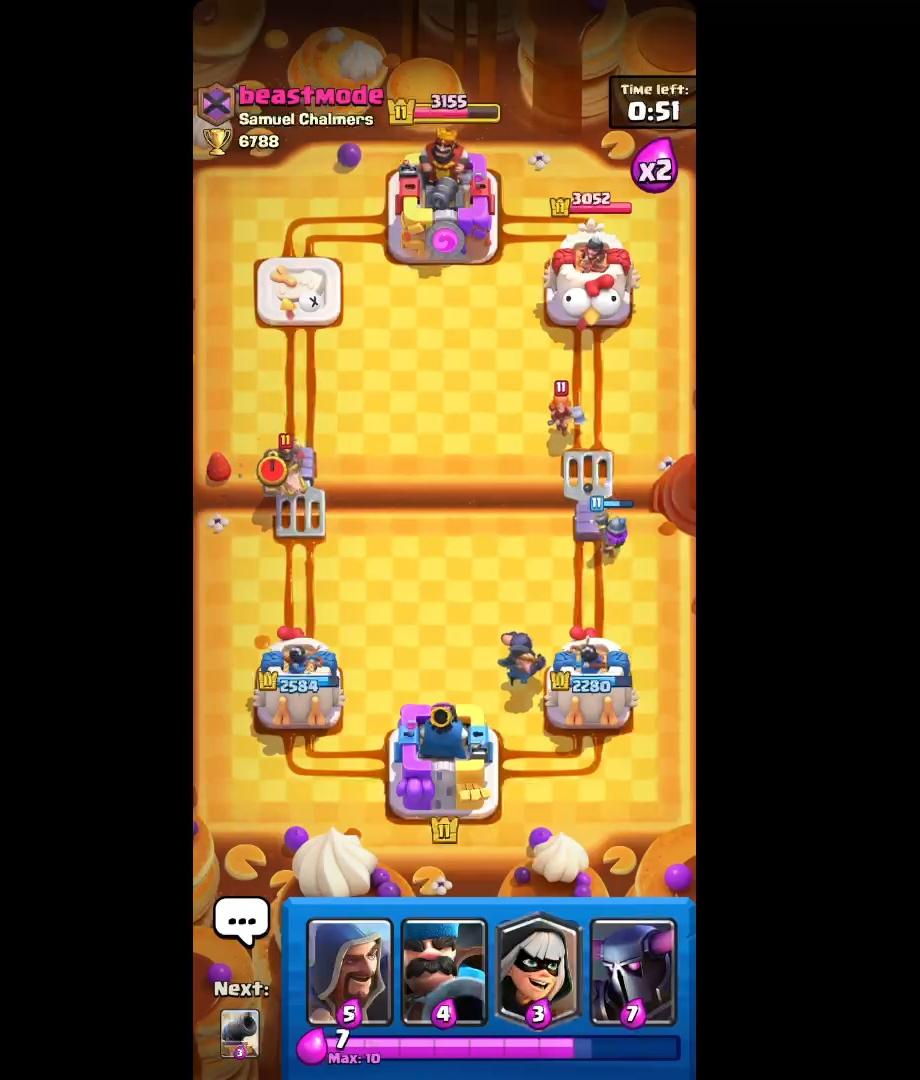Hog Rider: (254, 422, 314, 501)
Valkyrie: (546, 379, 592, 446)
